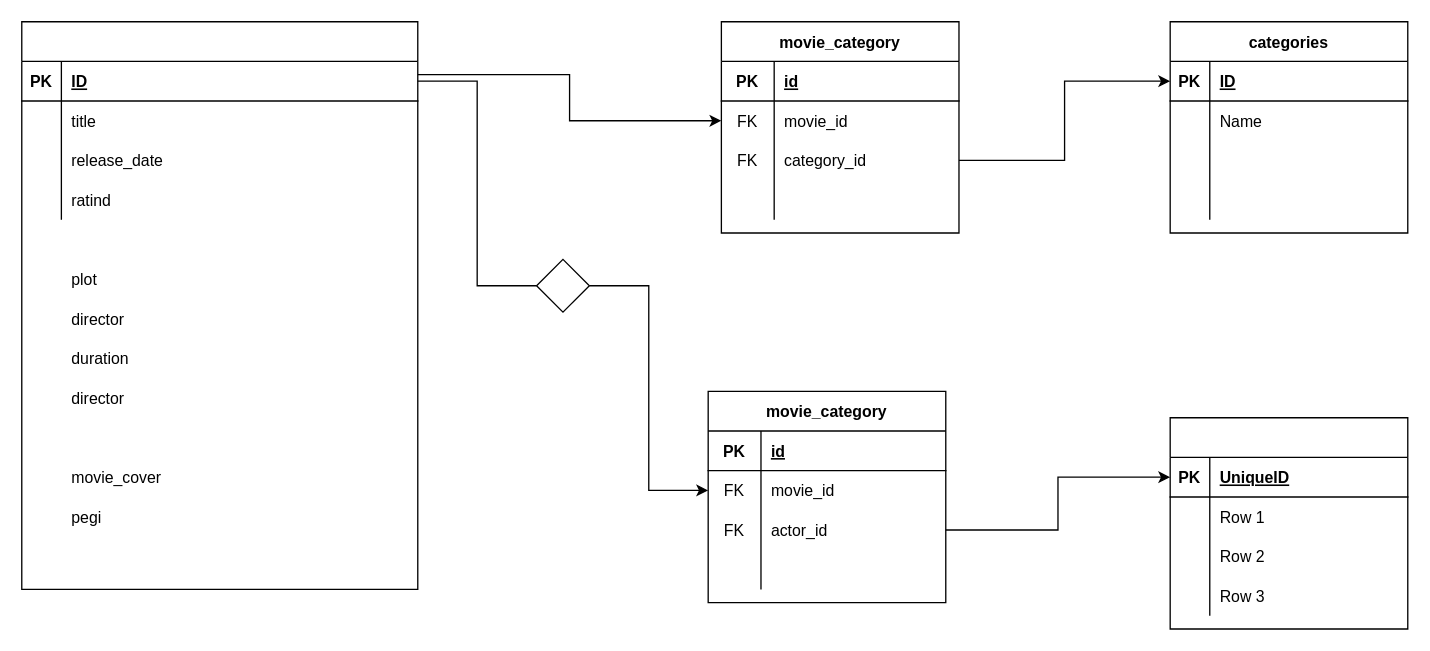
Some shapes in this 1430 by 651 pixel diagram are drawn without their labels. The shapes that lost their labels are listed below. From the top down, each one's box as (x1, y1, x2, y2) in pixels, then its label:
(20, 20, 418, 589): Movies
(1169, 416, 1408, 629): actors
